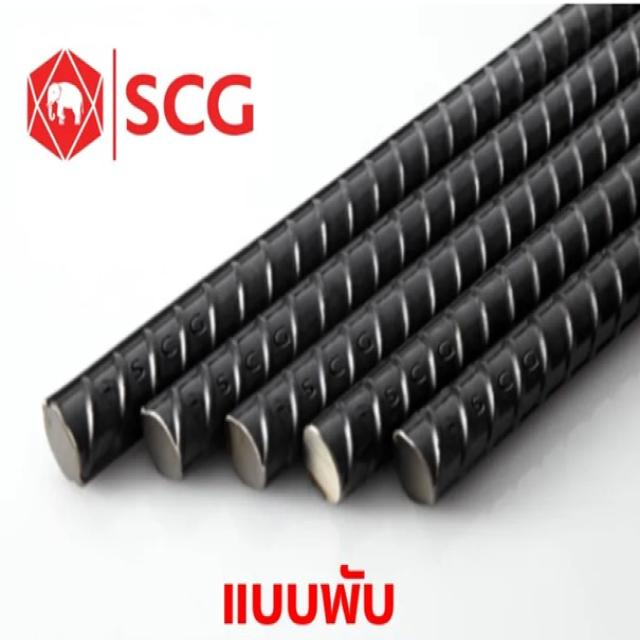Rebar: (41, 401, 90, 487), (298, 423, 347, 506), (395, 436, 442, 510), (226, 419, 271, 496), (138, 412, 185, 484)
